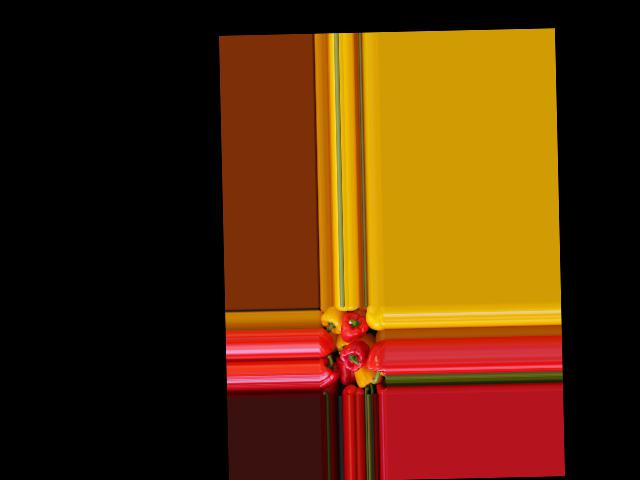bell_pepper: (322, 306, 345, 331)
